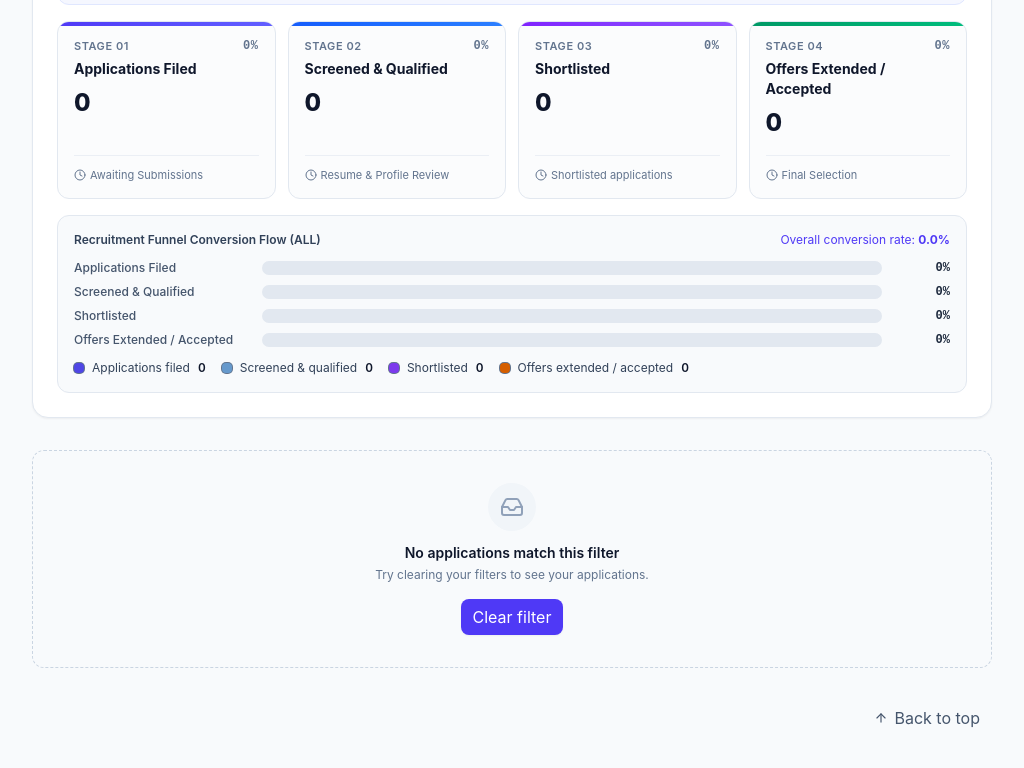
Test: ApplicationsPage status menu and pagination › shows a filtered empty state instead of the zero-applications state
The width and height of the screenshot is (1024, 768).
(page scrolled)
Expected: the heading "No applications match this filter" is shown, [405, 543, 619, 563]
Click the button "Clear filter": (512, 617) [460, 599, 563, 635]
(page scrolled)
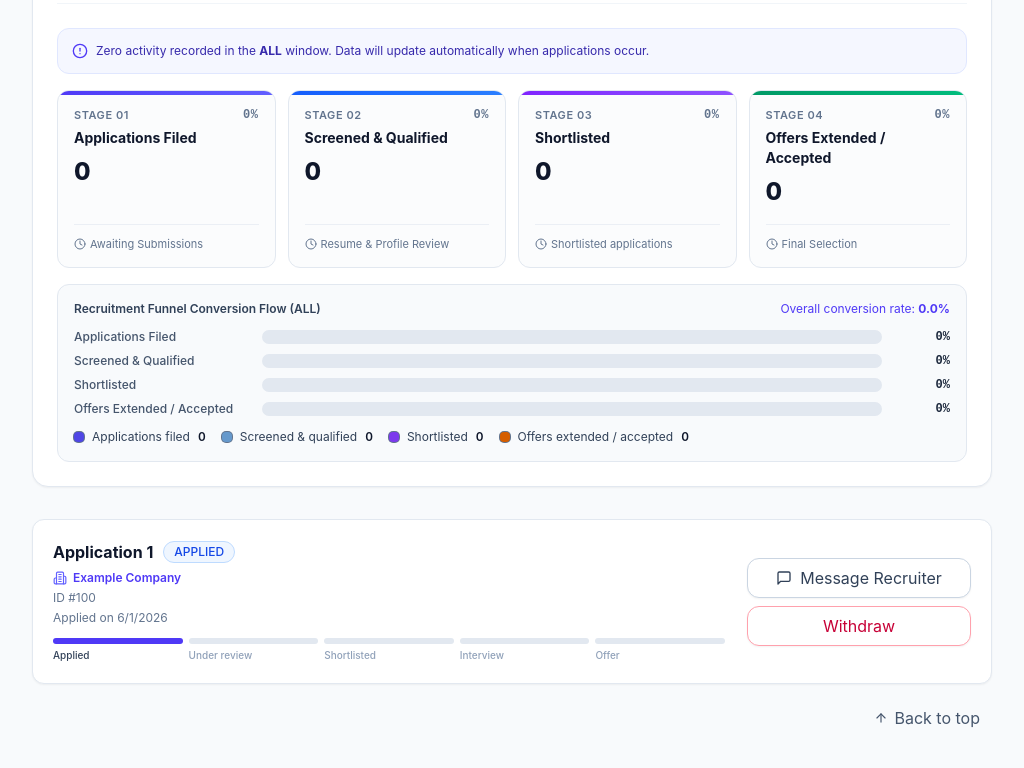
Now the heading "Application 1" is shown, box [53, 540, 153, 564]
